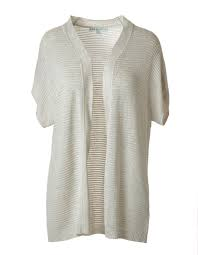S_cardigan sweater: (25, 26, 186, 240)
